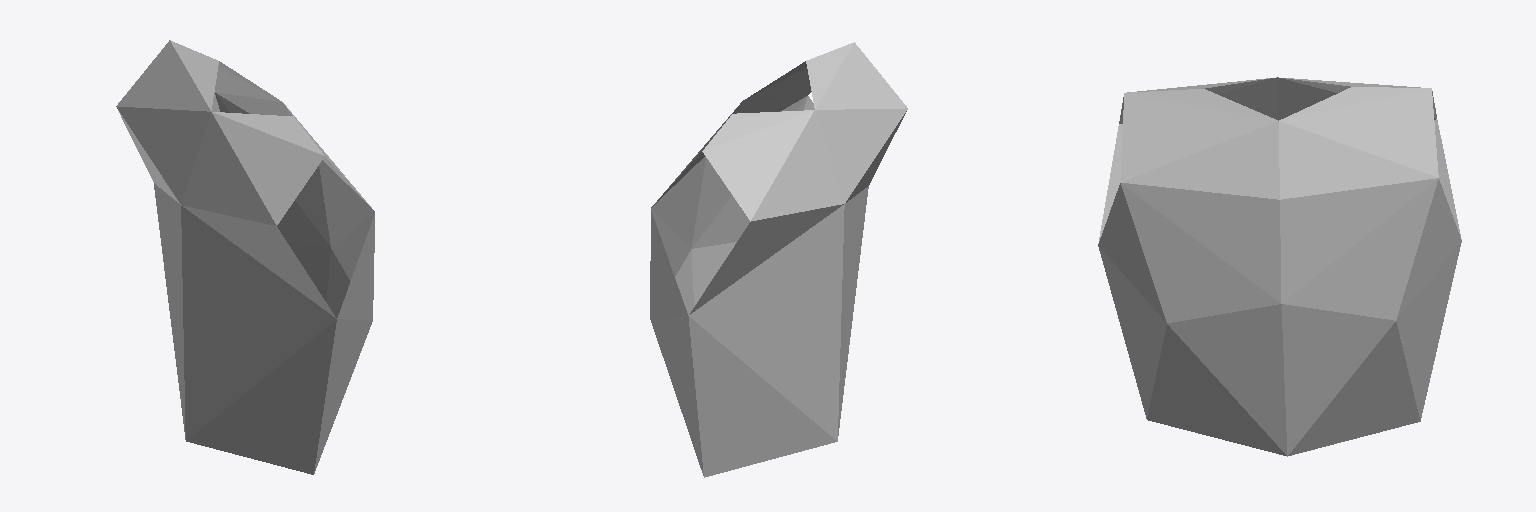
Rendered from armorleathershirtblack.obj.
3 views of the same model, side by side, from view 1: azimuth 30°, elevation 25°; view 2: azimuth 150°, elevation 25°; view 3: azimuth 270°, elevation 25° (orthographic).
Parts seen in each view (by area): view 1: armorleathershirtblack.m2; view 2: armorleathershirtblack.m2; view 3: armorleathershirtblack.m2.
Boxes of the visible parts, box(x1,y1,x2,y2) form: armorleathershirtblack.m2: box(116, 40, 374, 474); armorleathershirtblack.m2: box(650, 42, 907, 477); armorleathershirtblack.m2: box(1098, 77, 1461, 456).
Bounding box in the file's own units: 0.2865 × 0.6098 × 0.5956.